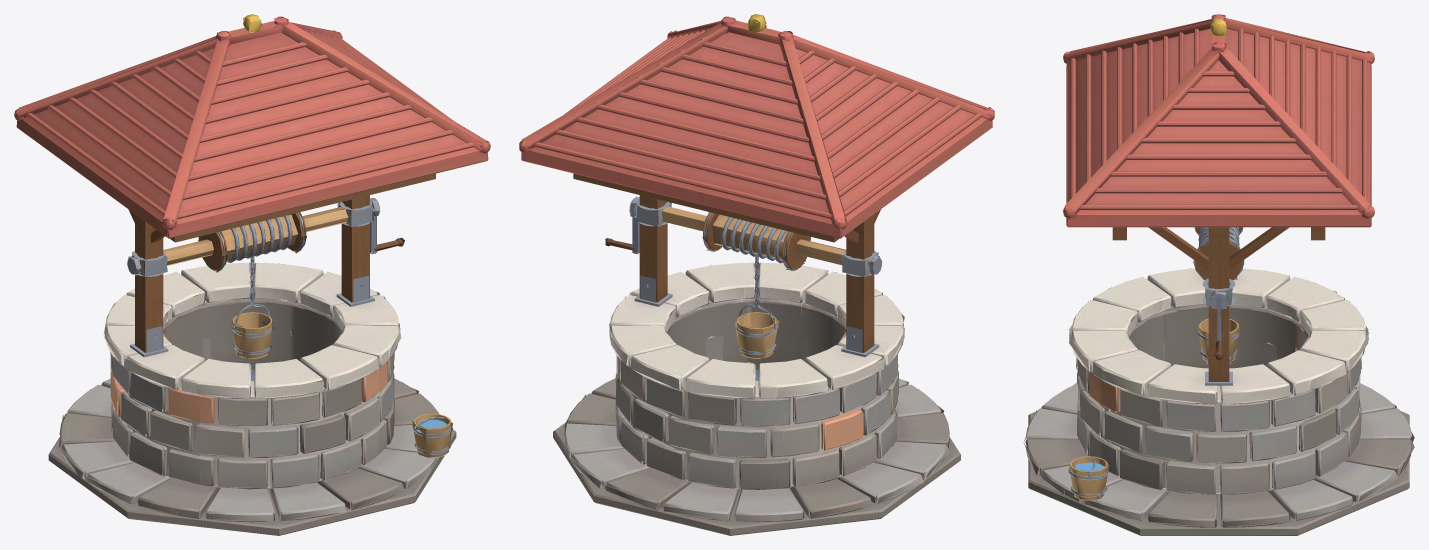
Rendered from pozo.glb.
3 views of the same model, side by side, from view 1: azimuth 30°, elevation 25°; view 2: azimuth 150°, elevation 25°; view 3: azimuth 270°, elevation 25° (orthographic).
Parts seen in each view (by area): view 1: castle-well_body; view 2: castle-well_body; view 3: castle-well_body.
Part boxes in pixels (bbox=[...]): castle-well_body: bbox=[14, 14, 490, 535]; castle-well_body: bbox=[519, 14, 994, 535]; castle-well_body: bbox=[1023, 14, 1414, 535].
Bounding box in the file's own units: 3.07 × 3.78 × 3.07.
6 materials, 2 textured.
